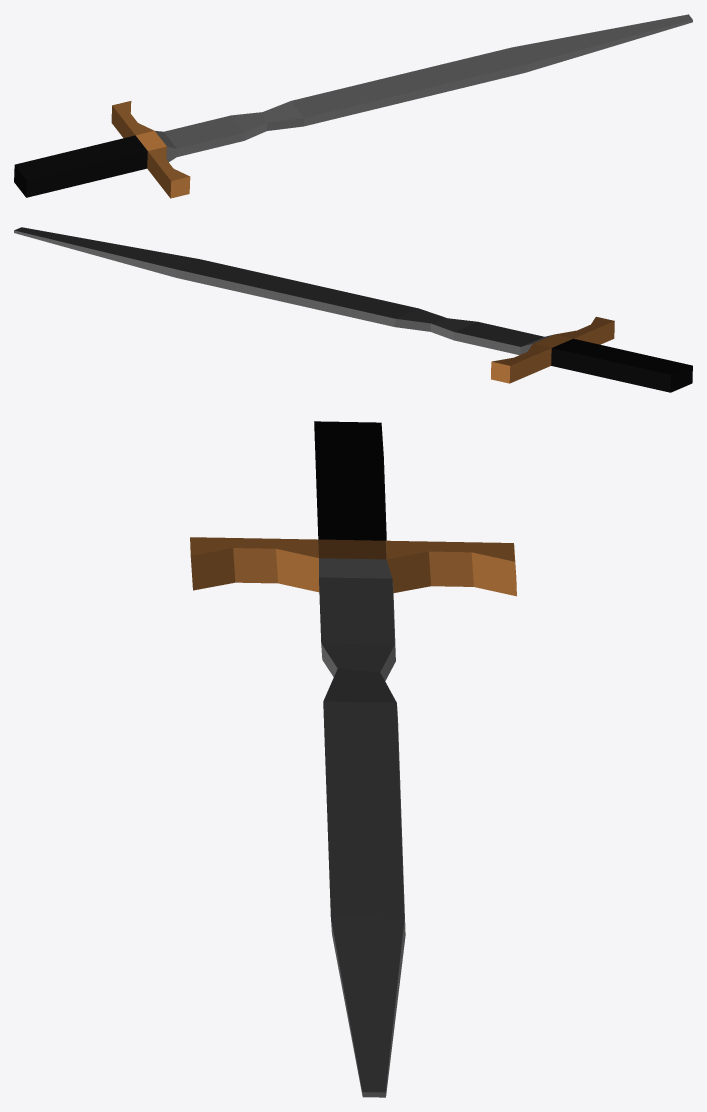
The model's file is MeleeWeapon.fbx.
3 renders of one model, top to bottom at view 1: azimuth 30°, elevation 25°; view 2: azimuth 150°, elevation 25°; view 3: azimuth 270°, elevation 25°, orthographic. The views are drawn at different scales.
Parts seen in each view (by area): view 1: Legs3.002; view 2: Legs3.002; view 3: Legs3.002.
Boxes of the visible parts, box(x1,y1,x2,y2) form: Legs3.002: box(14, 14, 692, 198); Legs3.002: box(14, 227, 692, 392); Legs3.002: box(190, 421, 516, 1097).
Size of the model in its own units: 15.83 by 0.5986 by 3.39.
